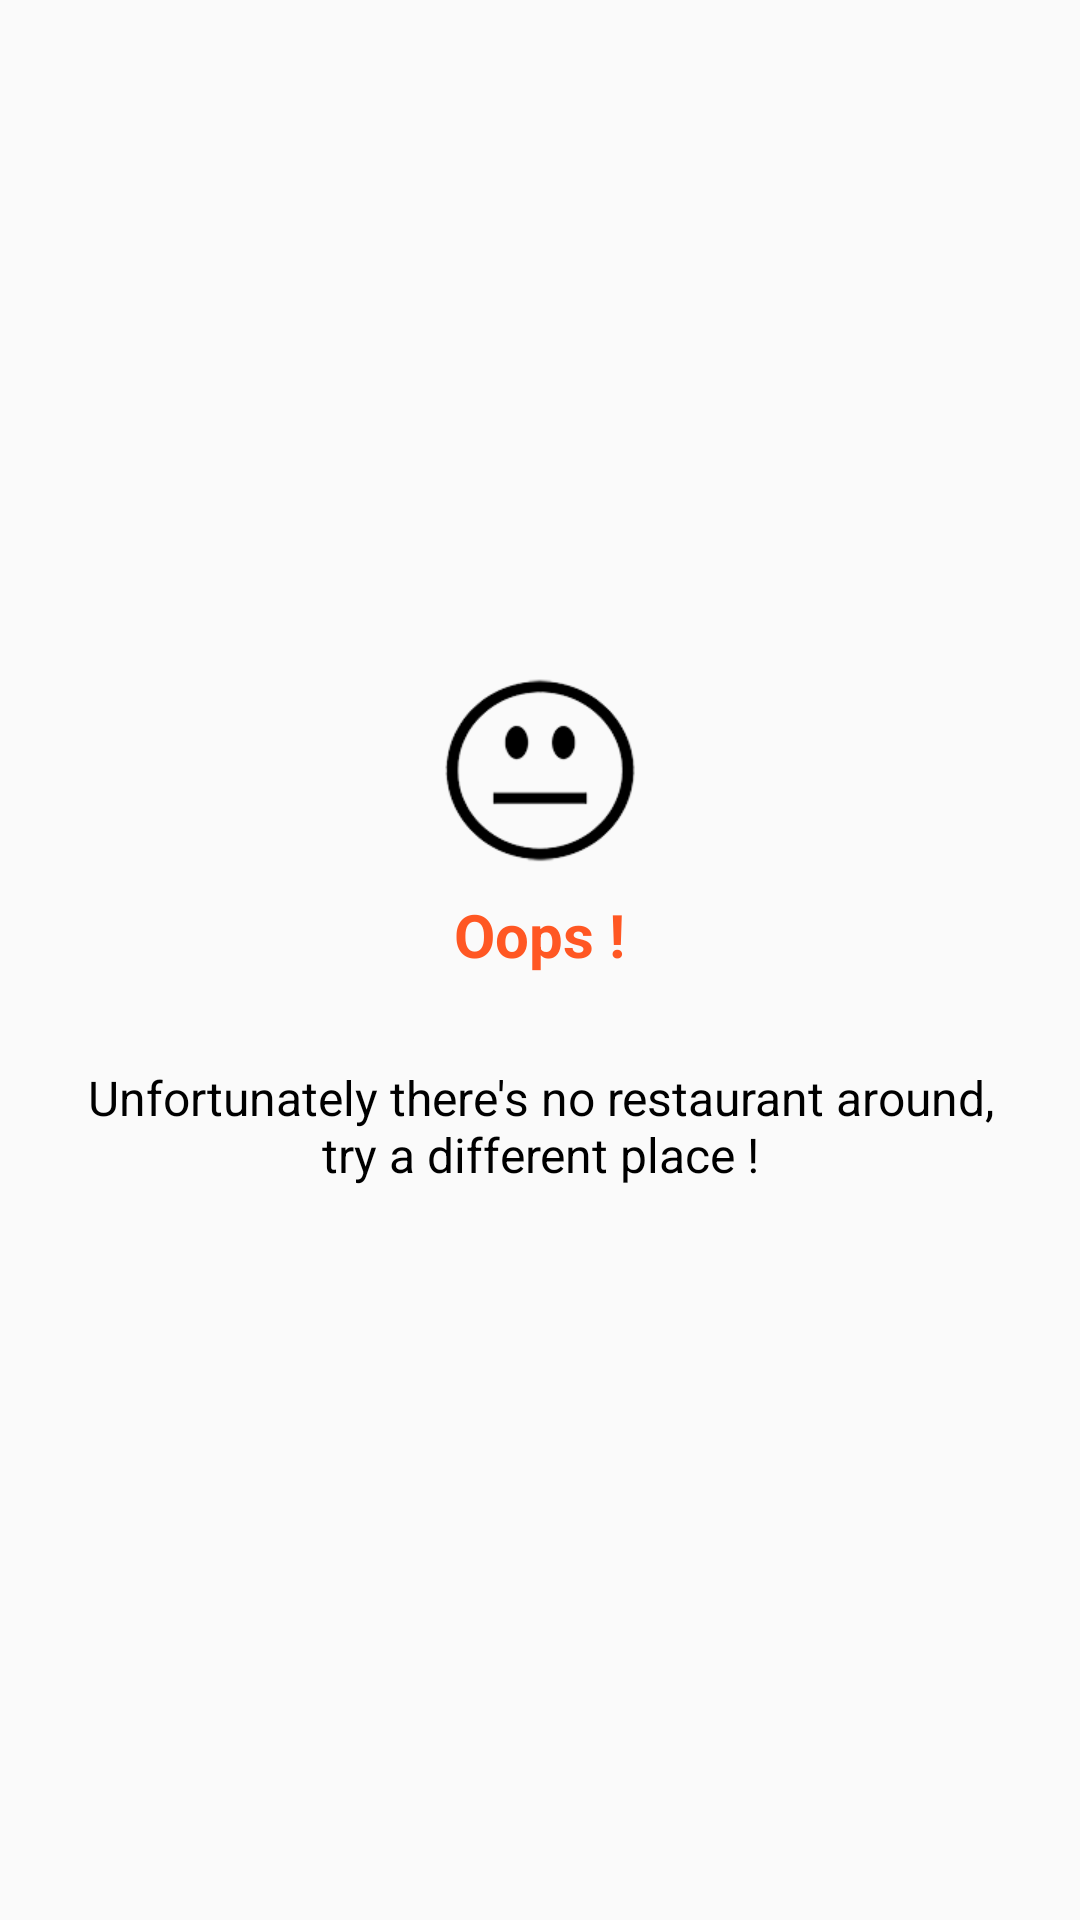

Named icons in this screenshot (1080*1920) and their bounding boxes, (x1, y1, x2, y2):
sad smiley: (445, 679, 635, 861)
